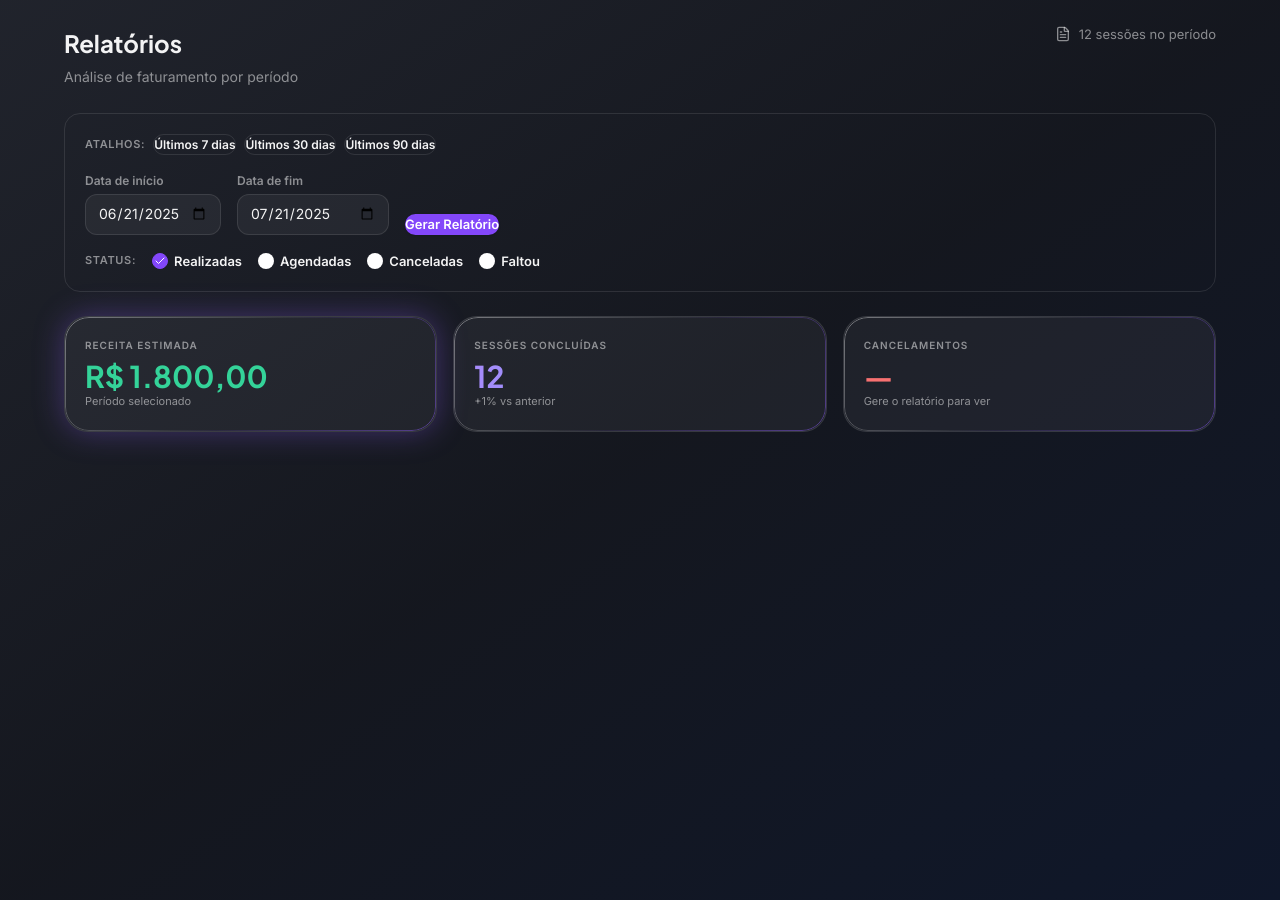
Test case: ReportsPage › colapsa sessões após segundo clique no botão de expansão
Click the button "Gerar Relatório": (452, 224) left=405, top=214, right=499, bottom=235
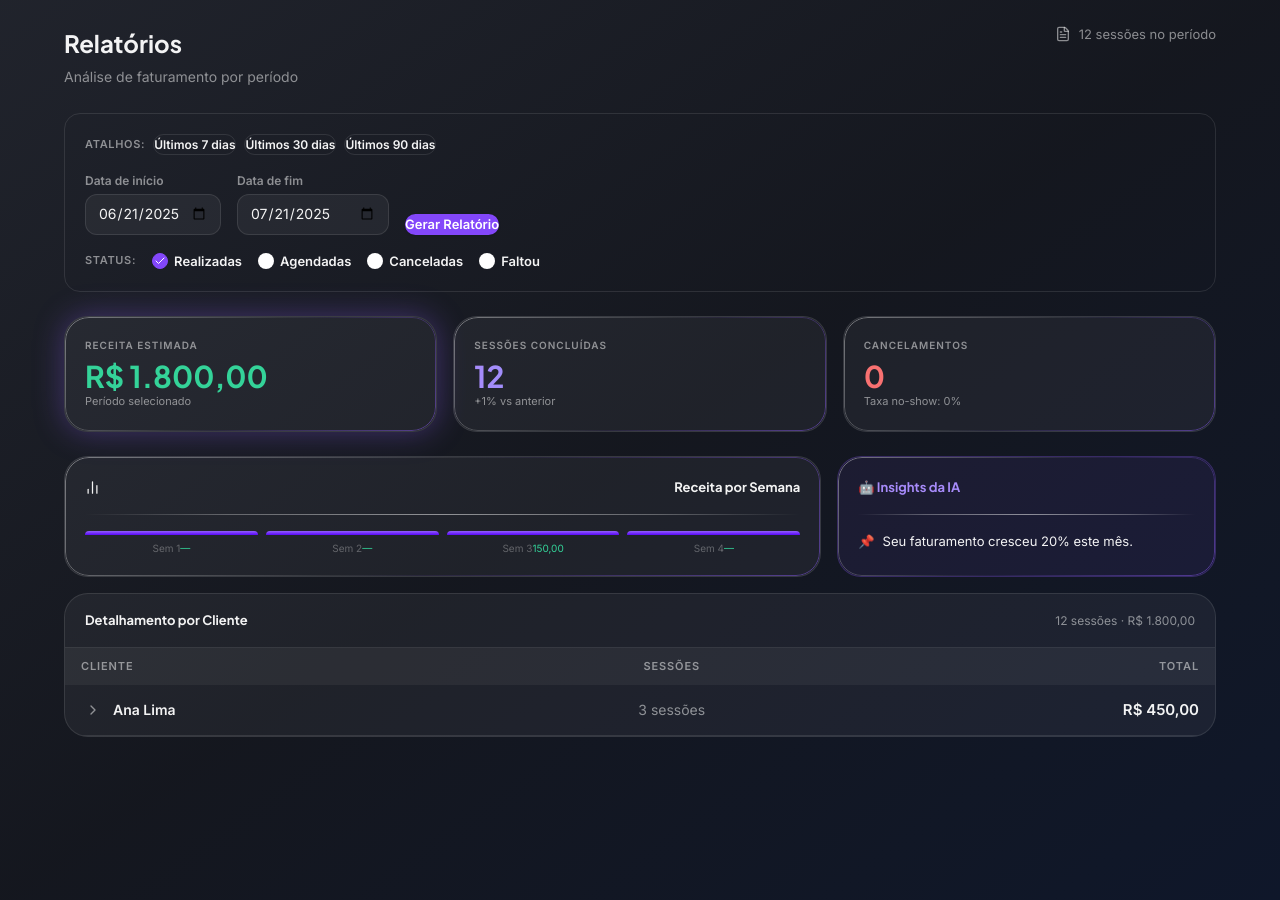
Result: the text "Ana Lima" is shown at left=113, top=699, right=176, bottom=721
Click the button named "expandir sessões de ana lima": (93, 710) left=81, top=698, right=105, bottom=722
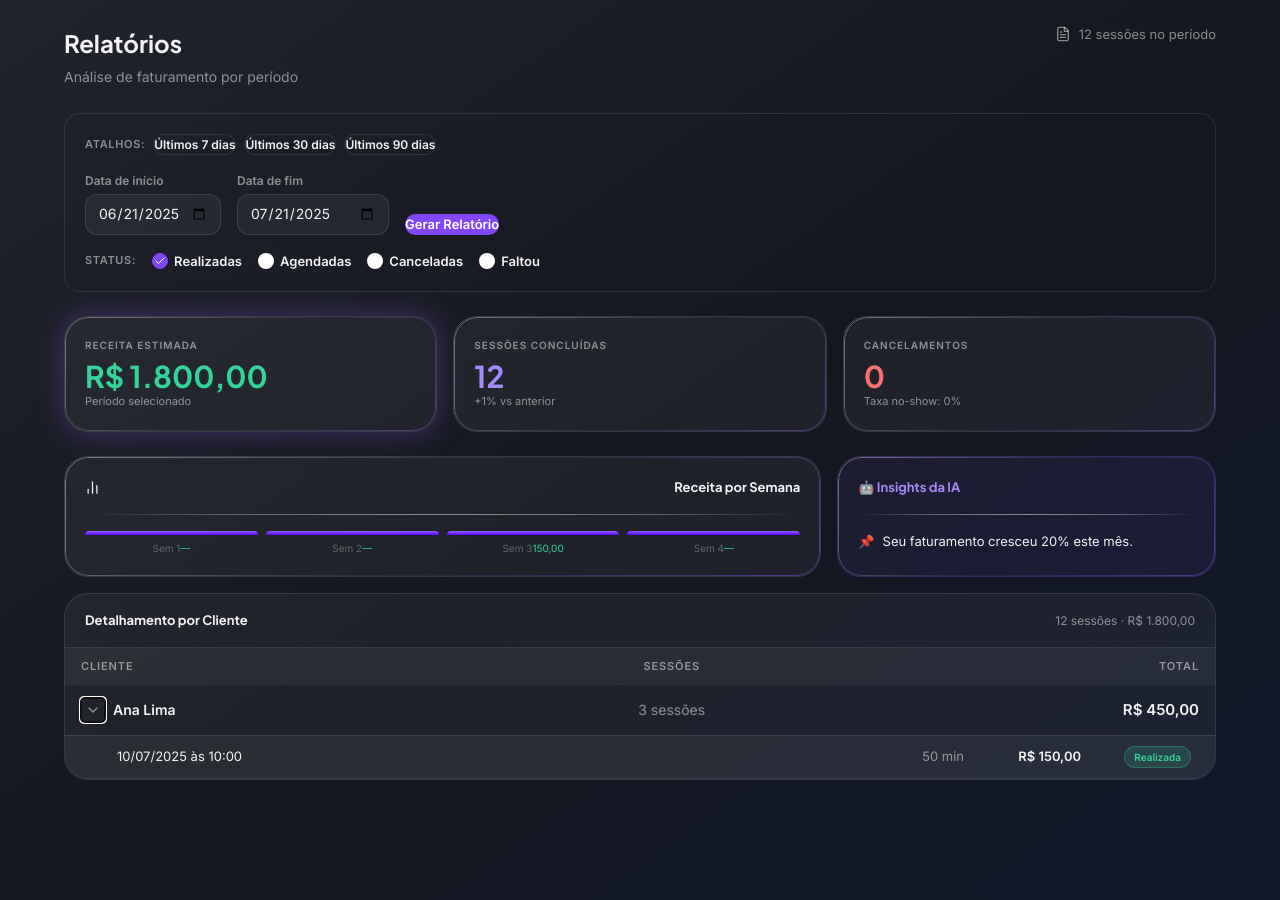
Result: the text "50 min" is shown at left=922, top=748, right=964, bottom=764
Collapse — aria-label flips to "Colapsar" when expanded
Click the button named "colapsar sessões de ana lima": (93, 710) left=81, top=698, right=105, bottom=722
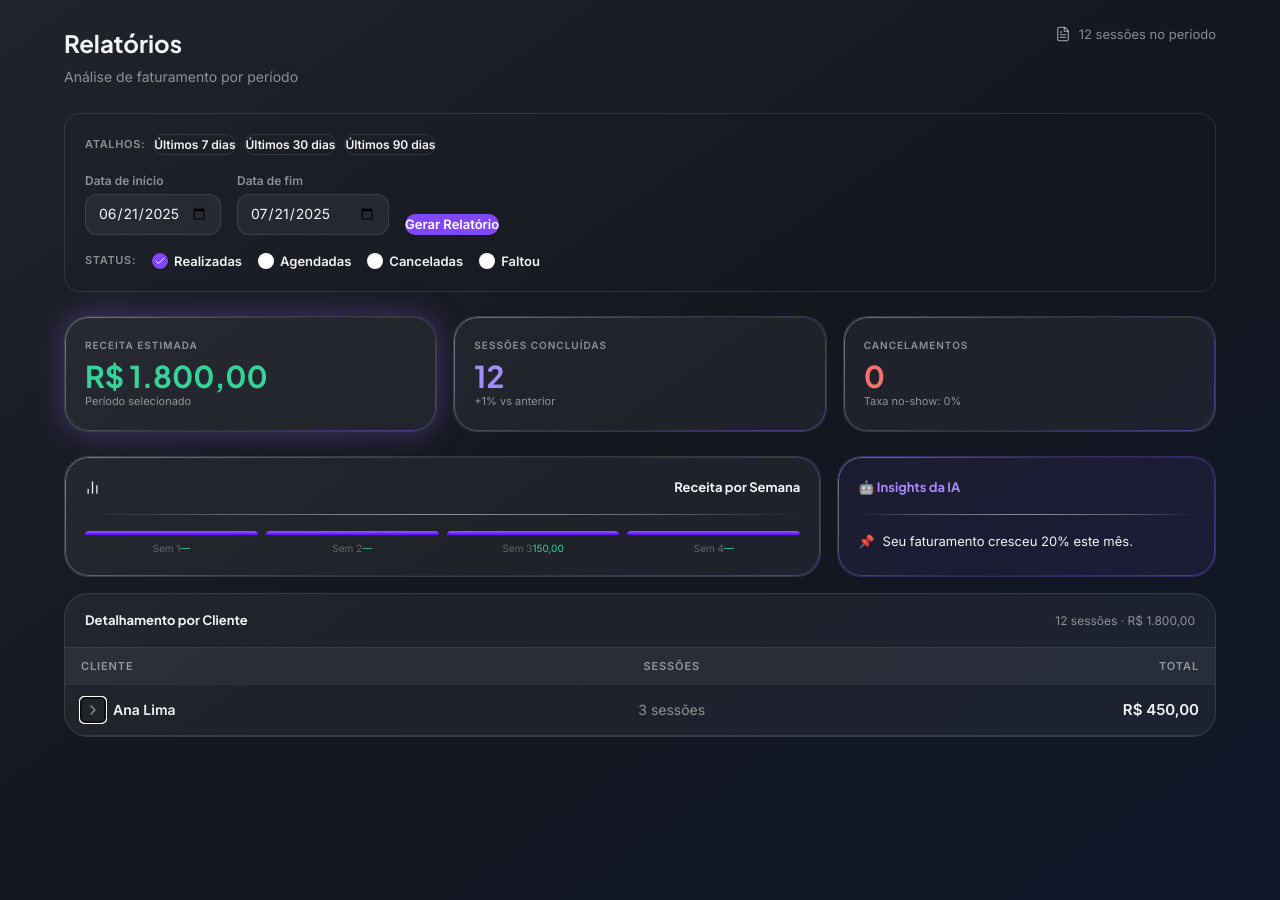
Result: the text "50 min" is gone
